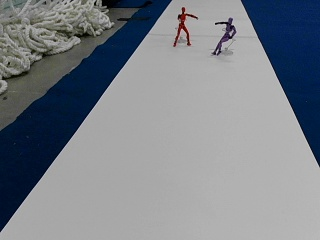pedestrian: (173, 6, 197, 46), (212, 17, 236, 54)
